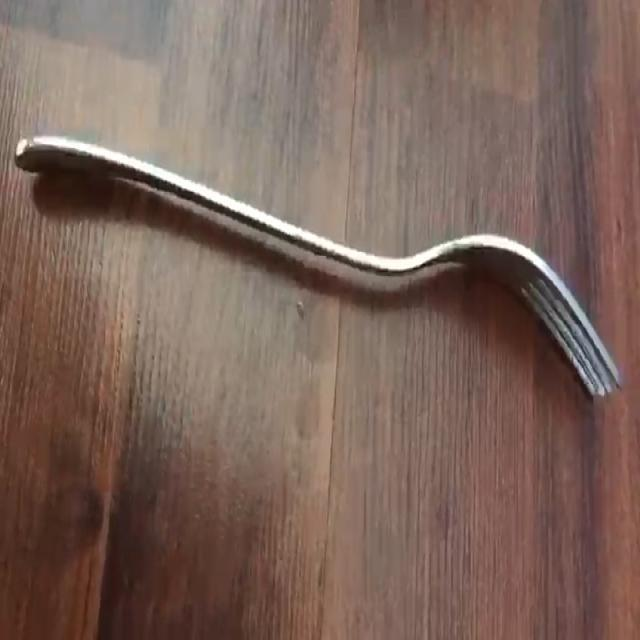spoon: (15, 137, 620, 397)
